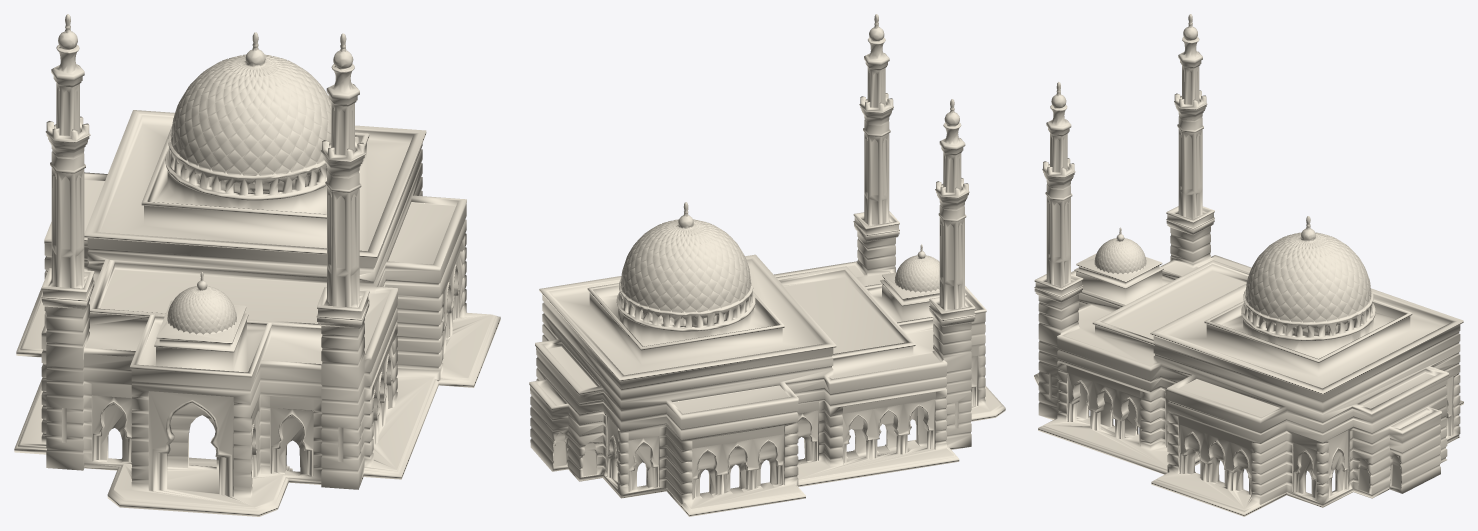
File: mosque2.glb
3 views of the same model, side by side, from view 1: azimuth 30°, elevation 25°; view 2: azimuth 150°, elevation 25°; view 3: azimuth 270°, elevation 25° (orthographic). The views are drawn at different scales.
Visible parts, largest first — view 1: stone; view 2: stone; view 3: stone.
Boxes of the visible parts, box(x1,y1,x2,y2) form: stone: box(14, 14, 500, 516); stone: box(529, 14, 1005, 516); stone: box(1034, 14, 1463, 516).
Size of the model in its own units: 44 by 37.59 by 43.99.
